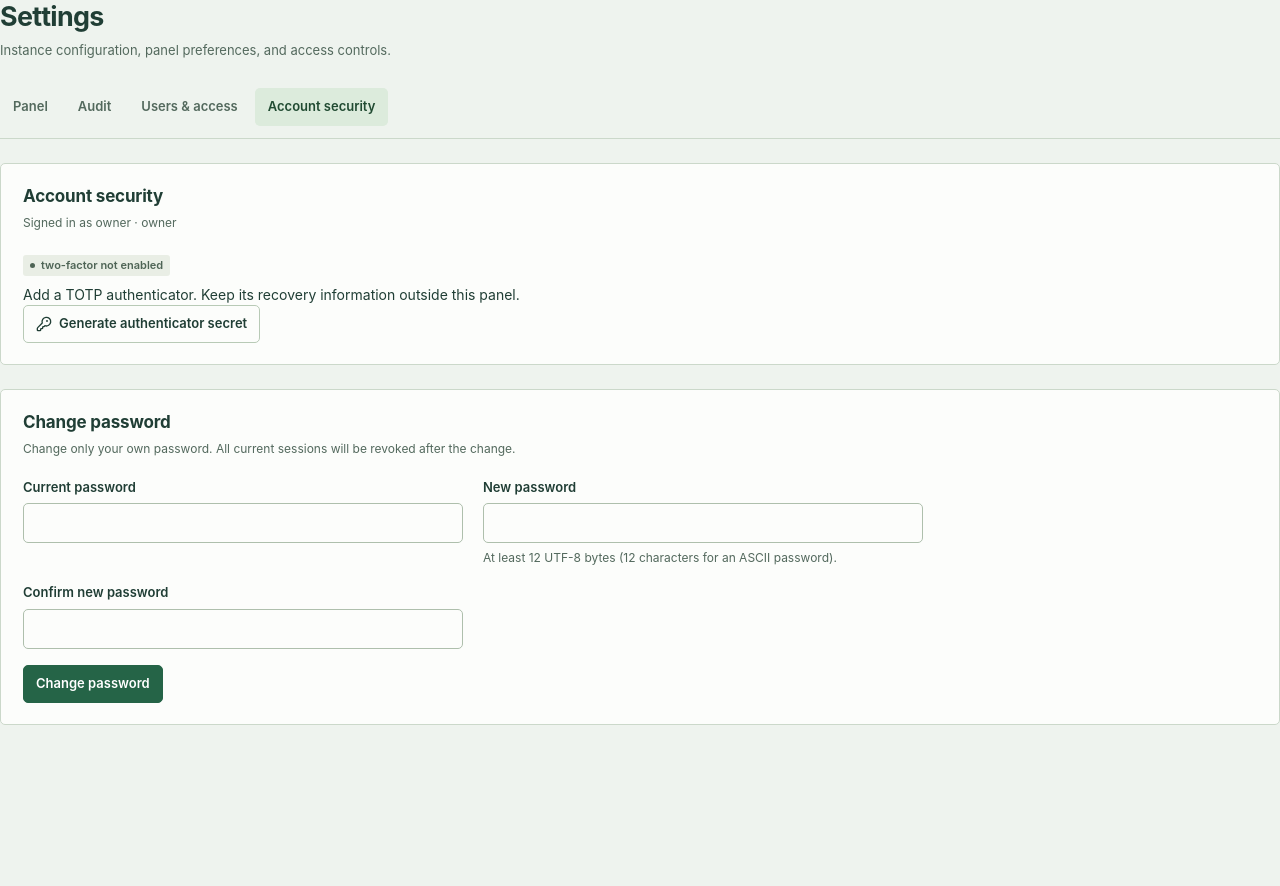
owner user revocation › preserves the user row and shows a rejected revocation without claiming success
The width and height of the screenshot is (1280, 886).
Click the button "Users & access". click: (190, 107)
box: [128,88,251,126]
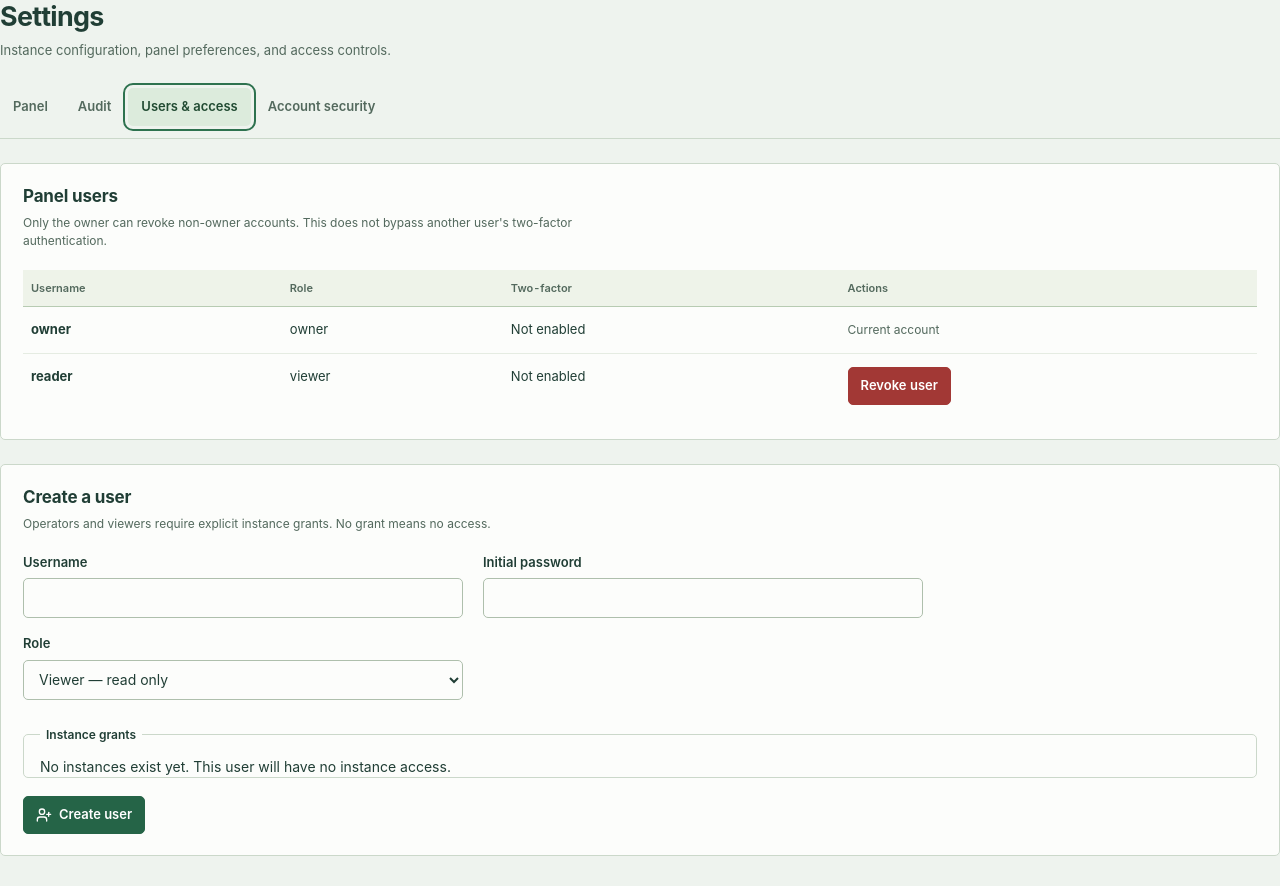
Click the button "Revoke user". click: (899, 386)
box: [848,367,951,405]
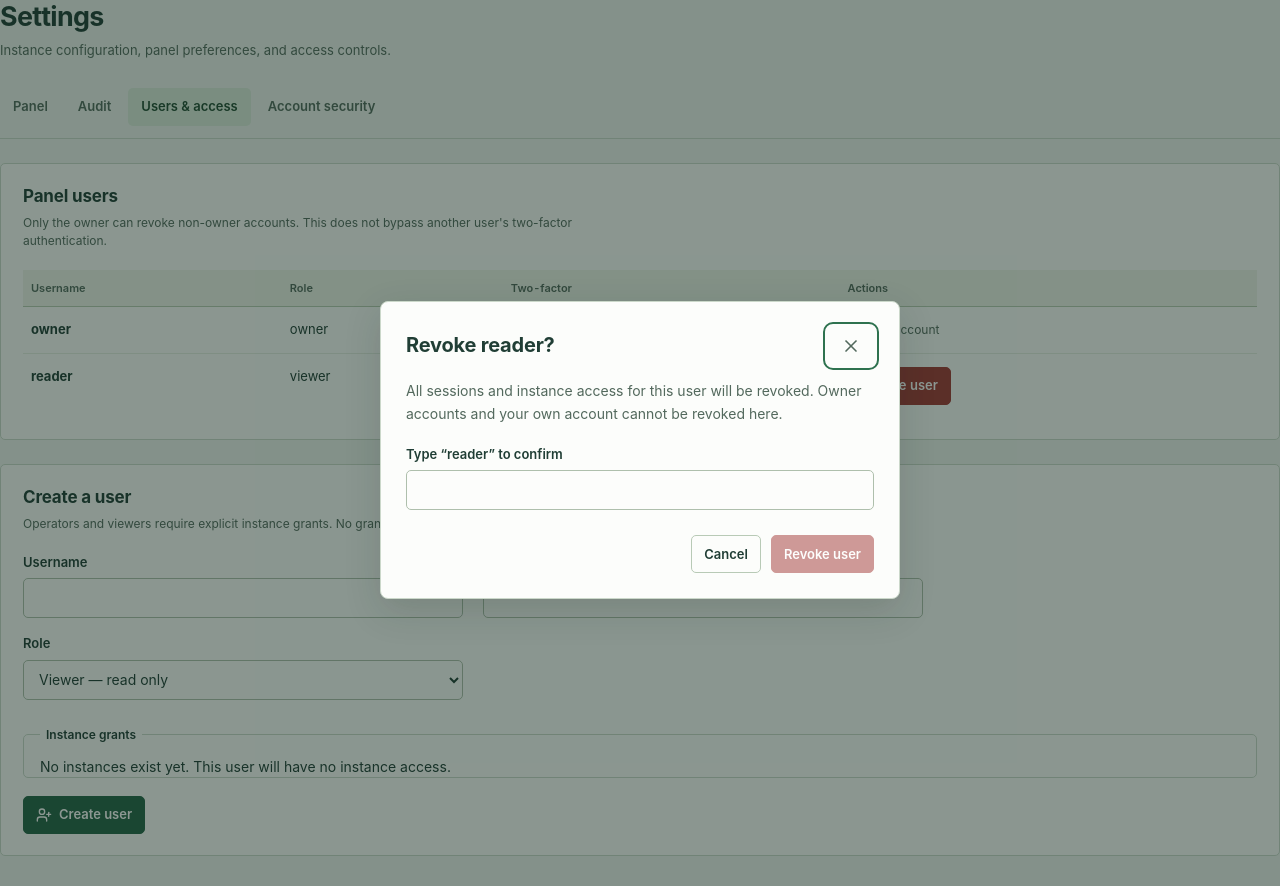
Type "reader" into the field labelled "Type “reader” to confirm". click: (640, 490)
box: [406,470,874,510]
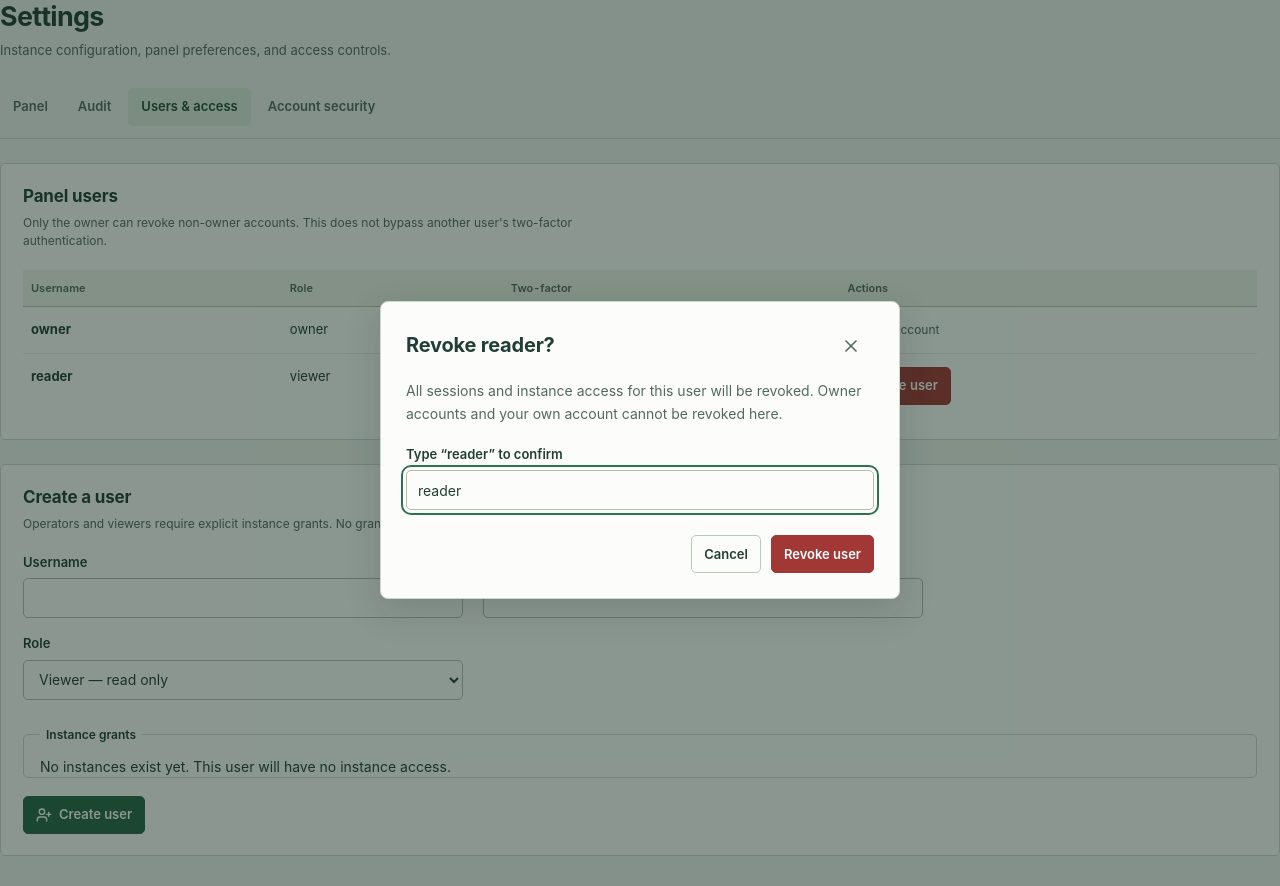
Click the button "Revoke user". click: (822, 554)
box: [771,535,874,573]
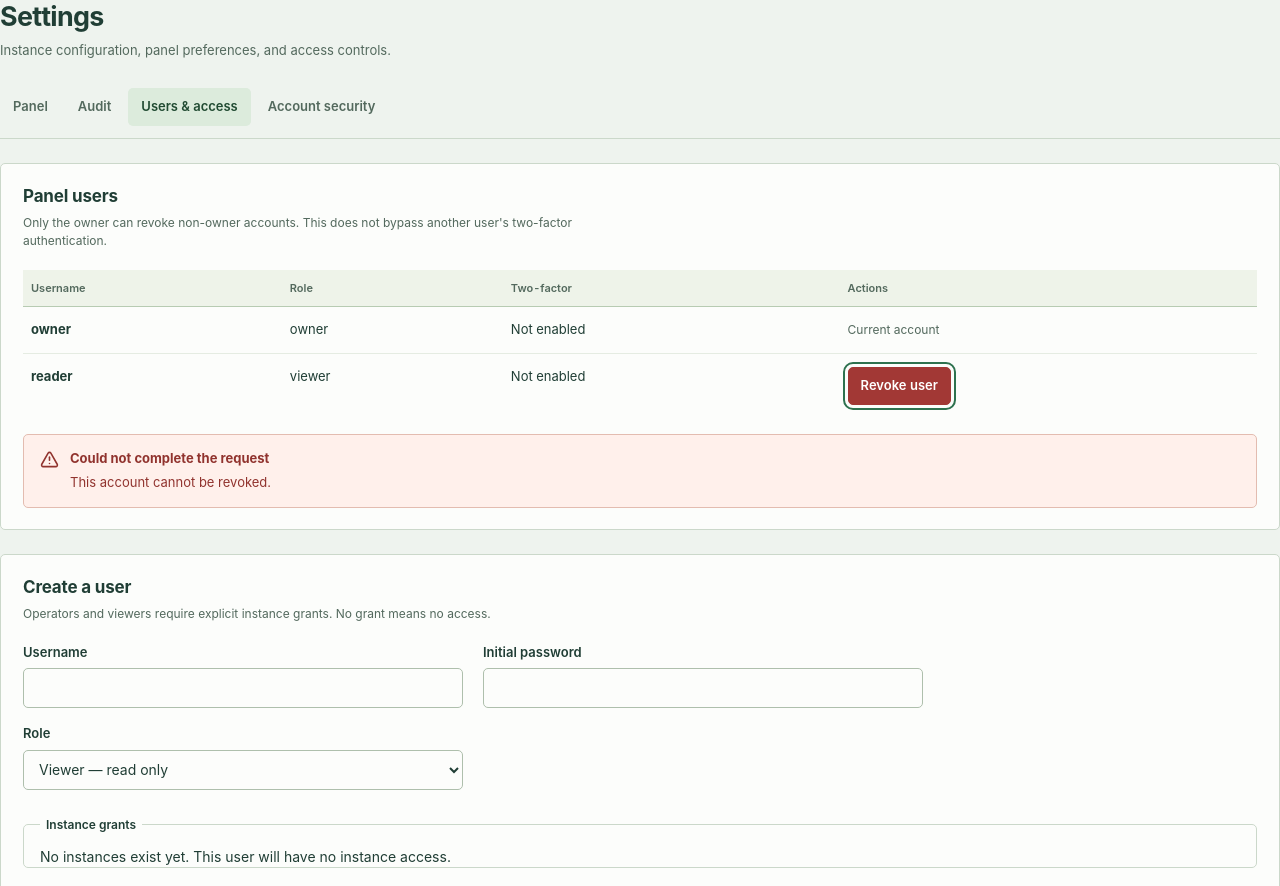
Expected: the text "This account cannot be revoked." is shown, [70,473,271,493]
